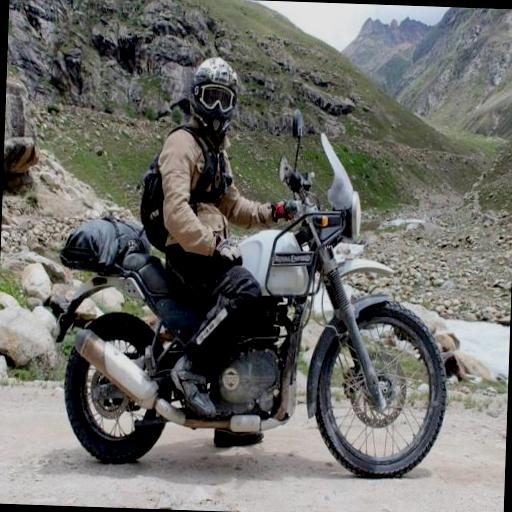helmet: (98, 30, 316, 475)
